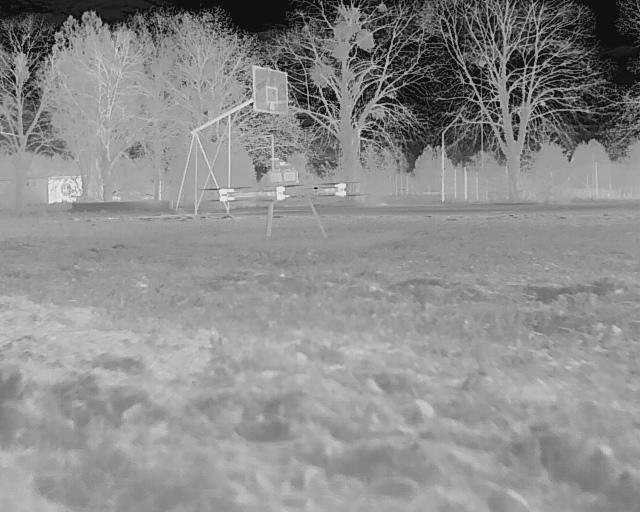drone: (195, 151, 374, 254)
